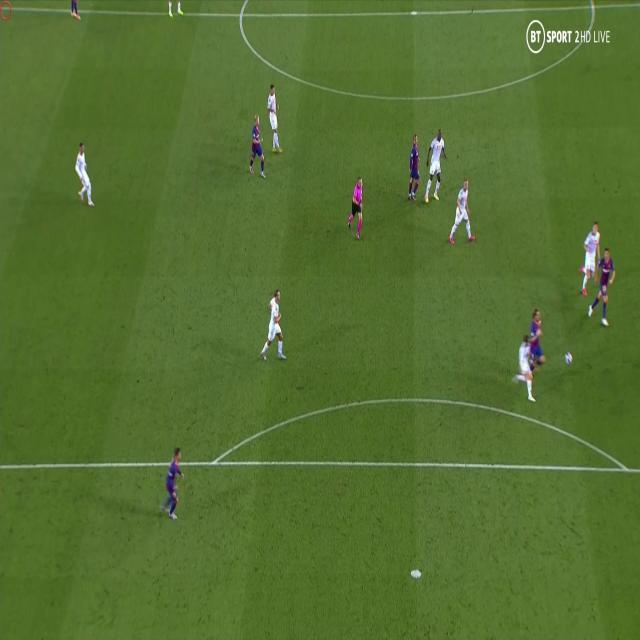ball: (564, 349, 574, 369)
player: (588, 244, 616, 322), (259, 287, 287, 362), (447, 177, 475, 244), (577, 219, 601, 294), (162, 444, 186, 518), (423, 128, 447, 202), (514, 329, 538, 399), (73, 139, 95, 205), (264, 80, 283, 153), (528, 304, 547, 371), (406, 131, 423, 202), (247, 111, 265, 178)
referee: (347, 172, 365, 236)
